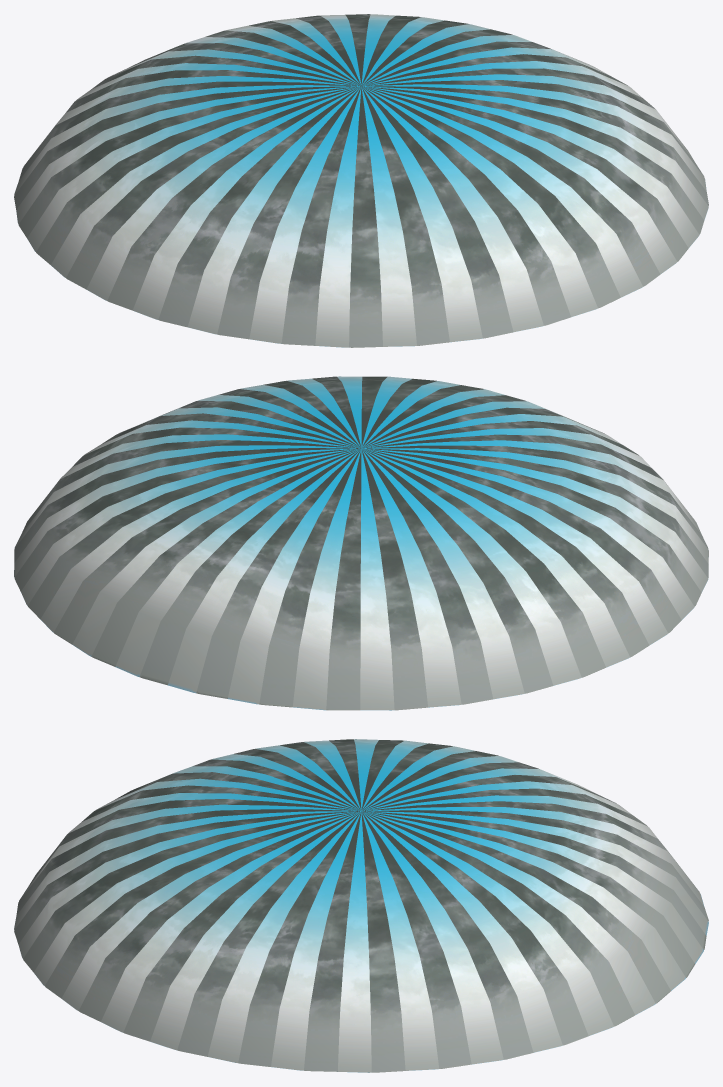
The model's file is stage_sd12a.glb.
3 views of the same model, one above another, from view 1: azimuth 30°, elevation 25°; view 2: azimuth 150°, elevation 25°; view 3: azimuth 270°, elevation 25° (orthographic).
Parts seen in each view (by area): view 1: sd12asky001, sd12asky000; view 2: sd12asky001, sd12asky000; view 3: sd12asky000, sd12asky001.
Boxes of the visible parts, x1,y1,x2,y2 form: sd12asky001: (14, 14, 708, 347); sd12asky000: (14, 14, 708, 347); sd12asky001: (14, 376, 708, 710); sd12asky000: (14, 376, 708, 710); sd12asky000: (14, 739, 708, 1072); sd12asky001: (14, 739, 708, 1072).
Bounding box in the file's own units: 3429 × 709 × 3429.
29 materials, 20 textured.
